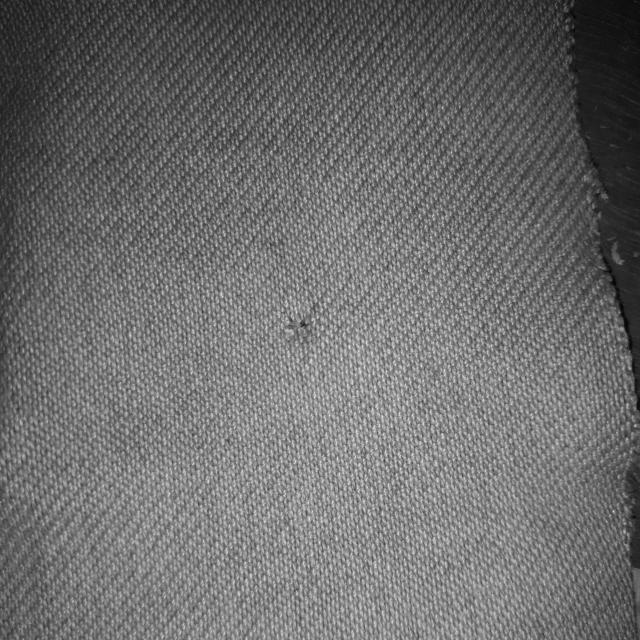other: (236, 290, 384, 388)
